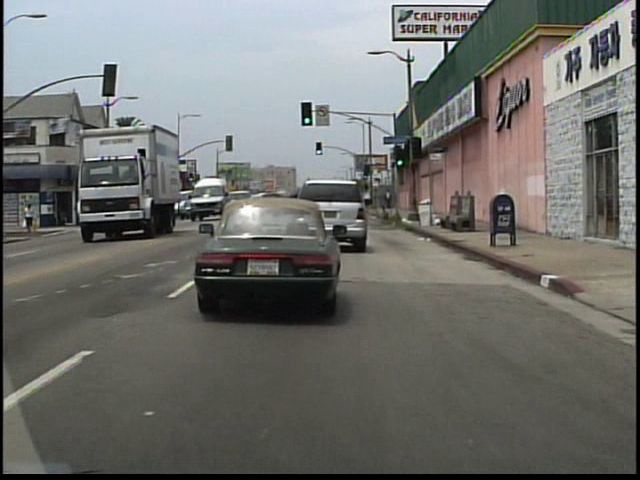person: (25, 204, 37, 233), (384, 188, 394, 210)
